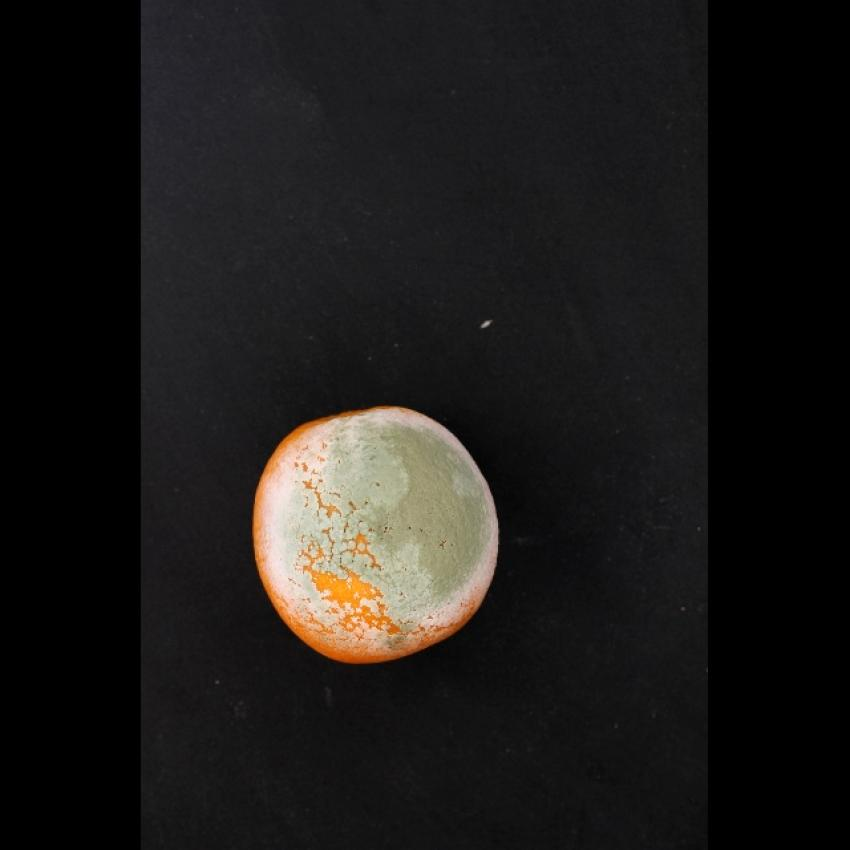Mal estado: (244, 401, 507, 674)
